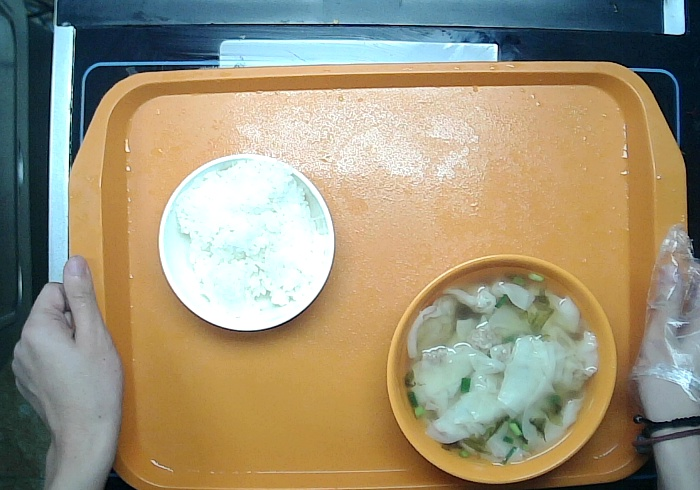NLDX-Fan_Wan: (154, 152, 336, 332)
NLDX-Hun_Tun_Wan: (384, 252, 617, 485)
